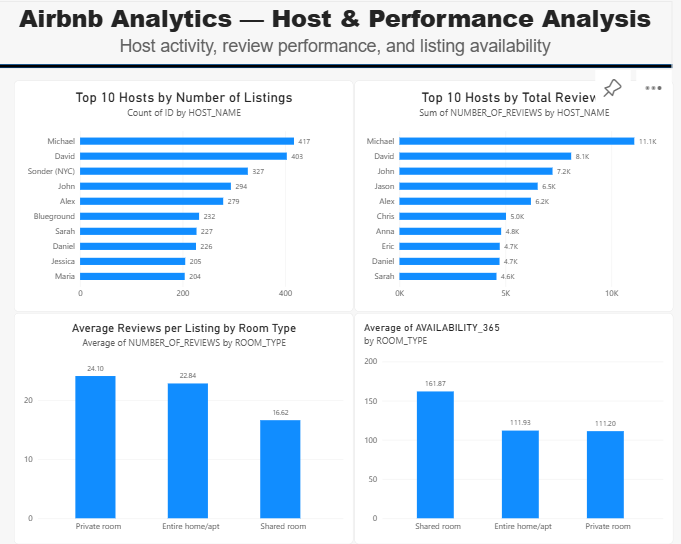

What the dashboard file says about the page in this screenshot:
{"tool":"powerbi","page":{"name":"Host & Performance Analysis","canvas":[1920,1080],"ordinal":3},"visuals":[{"type":"clusteredBarChart","title":"Top 10 Hosts by Number of Listings","fields":{"Category":["DIM_HOST.HOST_NAME"],"Y":["CountNonNull(FACT_LISTINGS.ID)"]},"box":[274.1,166.4,594,404.7],"z":0},{"type":"clusteredBarChart","title":"Top 10 Hosts by Total Reviews","fields":{"Category":["DIM_HOST.HOST_NAME"],"Y":["Sum(FACT_LISTINGS.NUMBER_OF_REVIEWS)"]},"box":[868.1,166.4,558.1,404.7],"z":1000},{"type":"clusteredColumnChart","title":"Average Reviews per Listing by Room Type","fields":{"Category":["DIM_ROOM_TYPE.ROOM_TYPE"],"Y":["Avg(FACT_LISTINGS.NUMBER_OF_REVIEWS)"]},"box":[274.1,571.1,594,404.7],"z":2000},{"type":"clusteredColumnChart","fields":{"Category":["DIM_ROOM_TYPE.ROOM_TYPE"],"Y":["Avg(FACT_LISTINGS.AVAILABILITY_365)"]},"box":[868.1,571.1,558.1,404.7],"z":2001},{"type":"shape","title":"Airbnb Analytics — Host & Performance Analysis","box":[244.8,26.1,1181.4,117.5],"z":2002}]}

Visuals, with their boxes on the page's 1920x1080 design canvas (x1, y1, x2, y2). These are canvas units, not pixel positions in the 681x544 screenshot, which may show the page scaled, cropped or inside an application window:
"Top 10 Hosts by Number of Listings" clusteredBarChart: {"x1": 274, "y1": 166, "x2": 868, "y2": 571}
"Top 10 Hosts by Total Reviews" clusteredBarChart: {"x1": 868, "y1": 166, "x2": 1426, "y2": 571}
"Average Reviews per Listing by Room Type" clusteredColumnChart: {"x1": 274, "y1": 571, "x2": 868, "y2": 976}
clusteredColumnChart - DIM_ROOM_TYPE.ROOM_TYPE x Avg(FACT_LISTINGS.AVAILABILITY_365): {"x1": 868, "y1": 571, "x2": 1426, "y2": 976}
"Airbnb Analytics — Host & Performance Analysis" shape: {"x1": 245, "y1": 26, "x2": 1426, "y2": 144}
